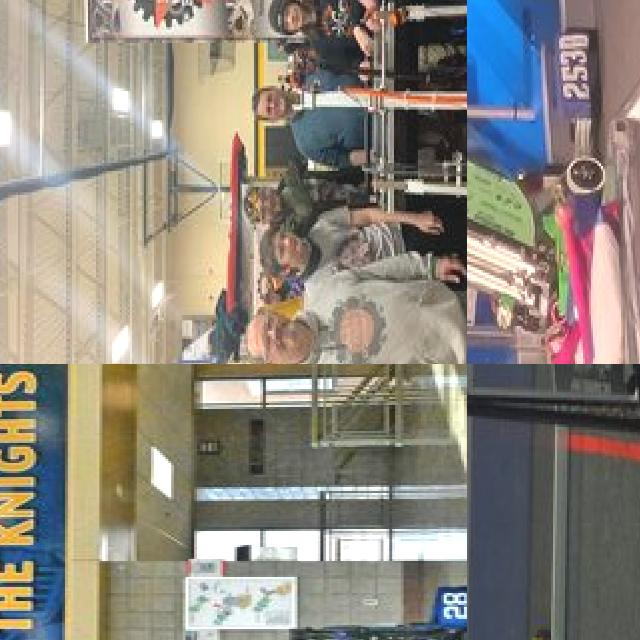FRC-Robots: (467, 0, 623, 364), (467, 364, 640, 554), (326, 0, 467, 219), (231, 566, 467, 640)
